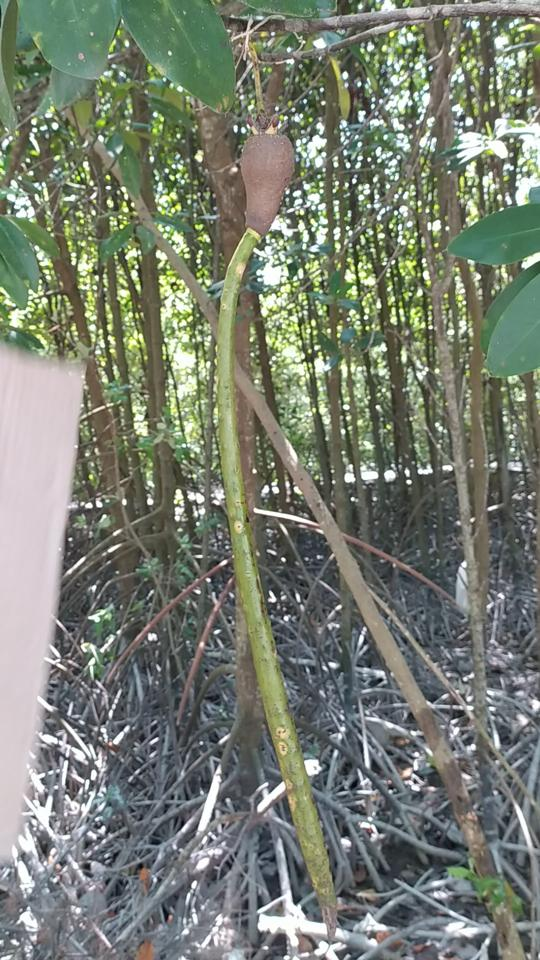setengah matang: (209, 115, 346, 952)
